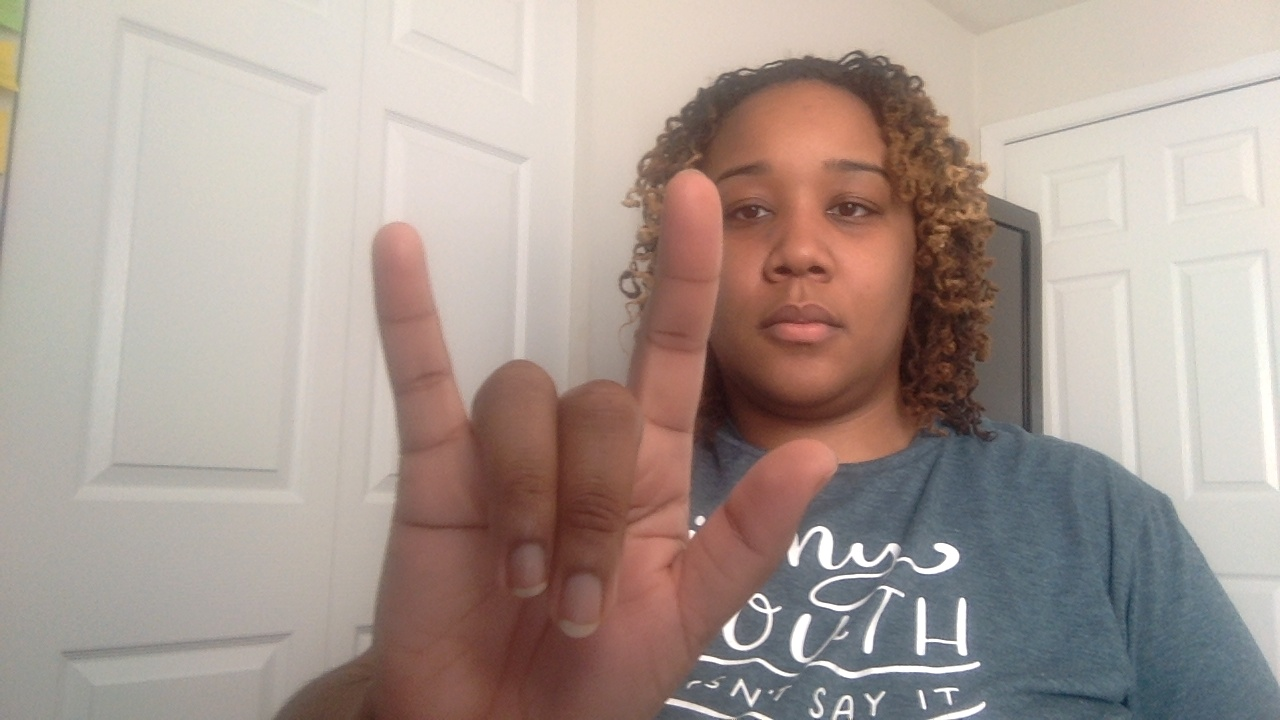i_love_you: (359, 167, 833, 720)
